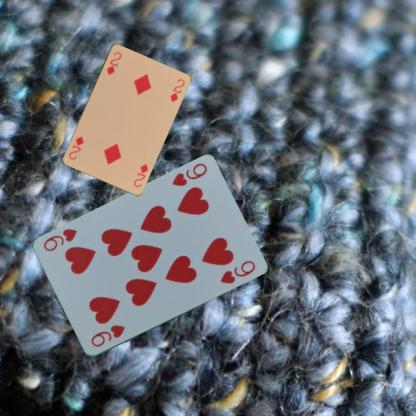2d: (131, 162, 150, 188), (104, 49, 122, 76)
9h: (169, 161, 209, 188), (88, 322, 126, 348)
